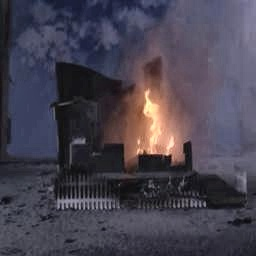fire: (125, 88, 181, 168)
smoke: (141, 0, 256, 96)
